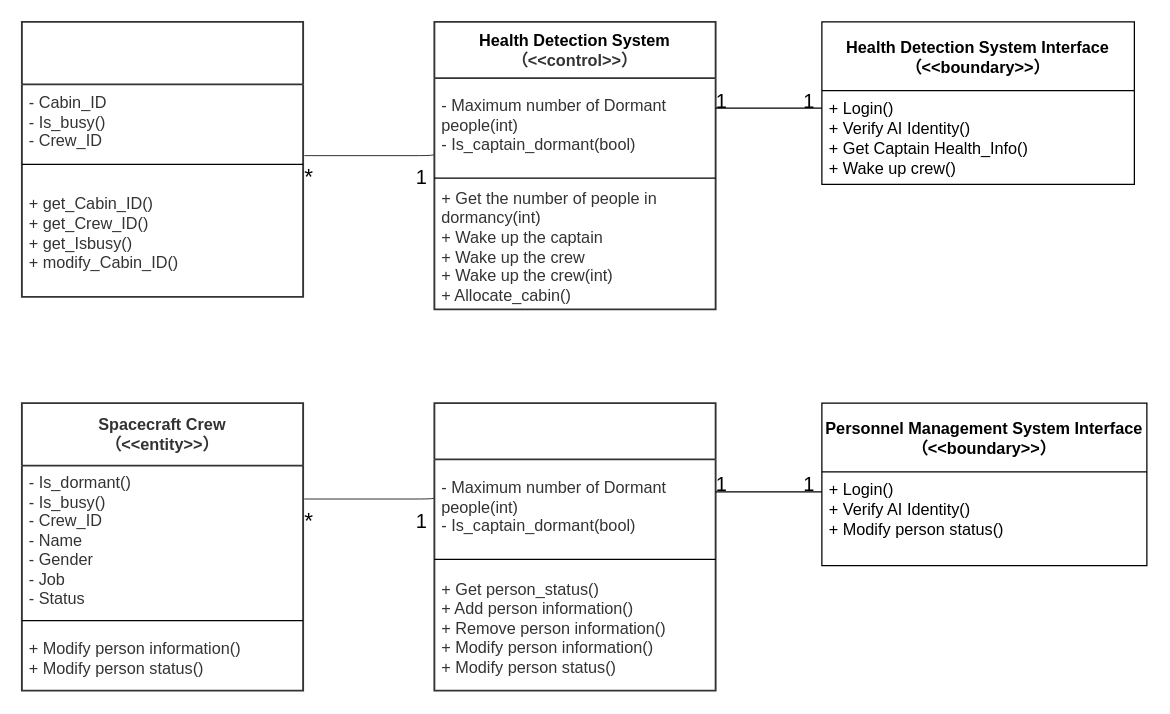
This 1170x714 diagram has some shape labels left out. The shapes that lost their labels are listed below. From the top down, each one's box as (x1, y1, x2, y2) in pixels, then its label:
(20, 20, 304, 297): Dormant Cabin （<<entity>>）
(433, 402, 716, 691): Personnel Management System （<<control>>）
